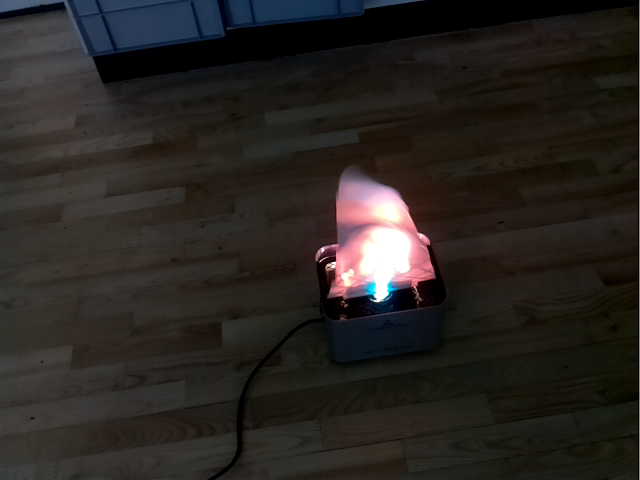fire: (328, 165, 436, 300)
